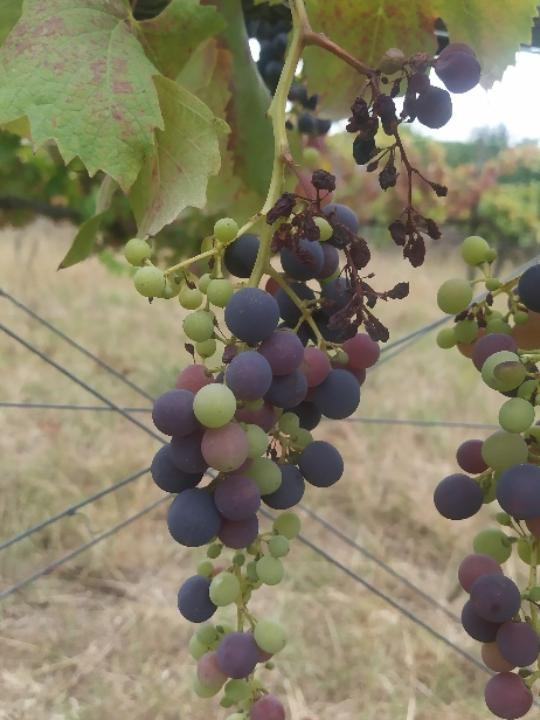grape: (118, 171, 410, 720), (337, 39, 480, 271)
